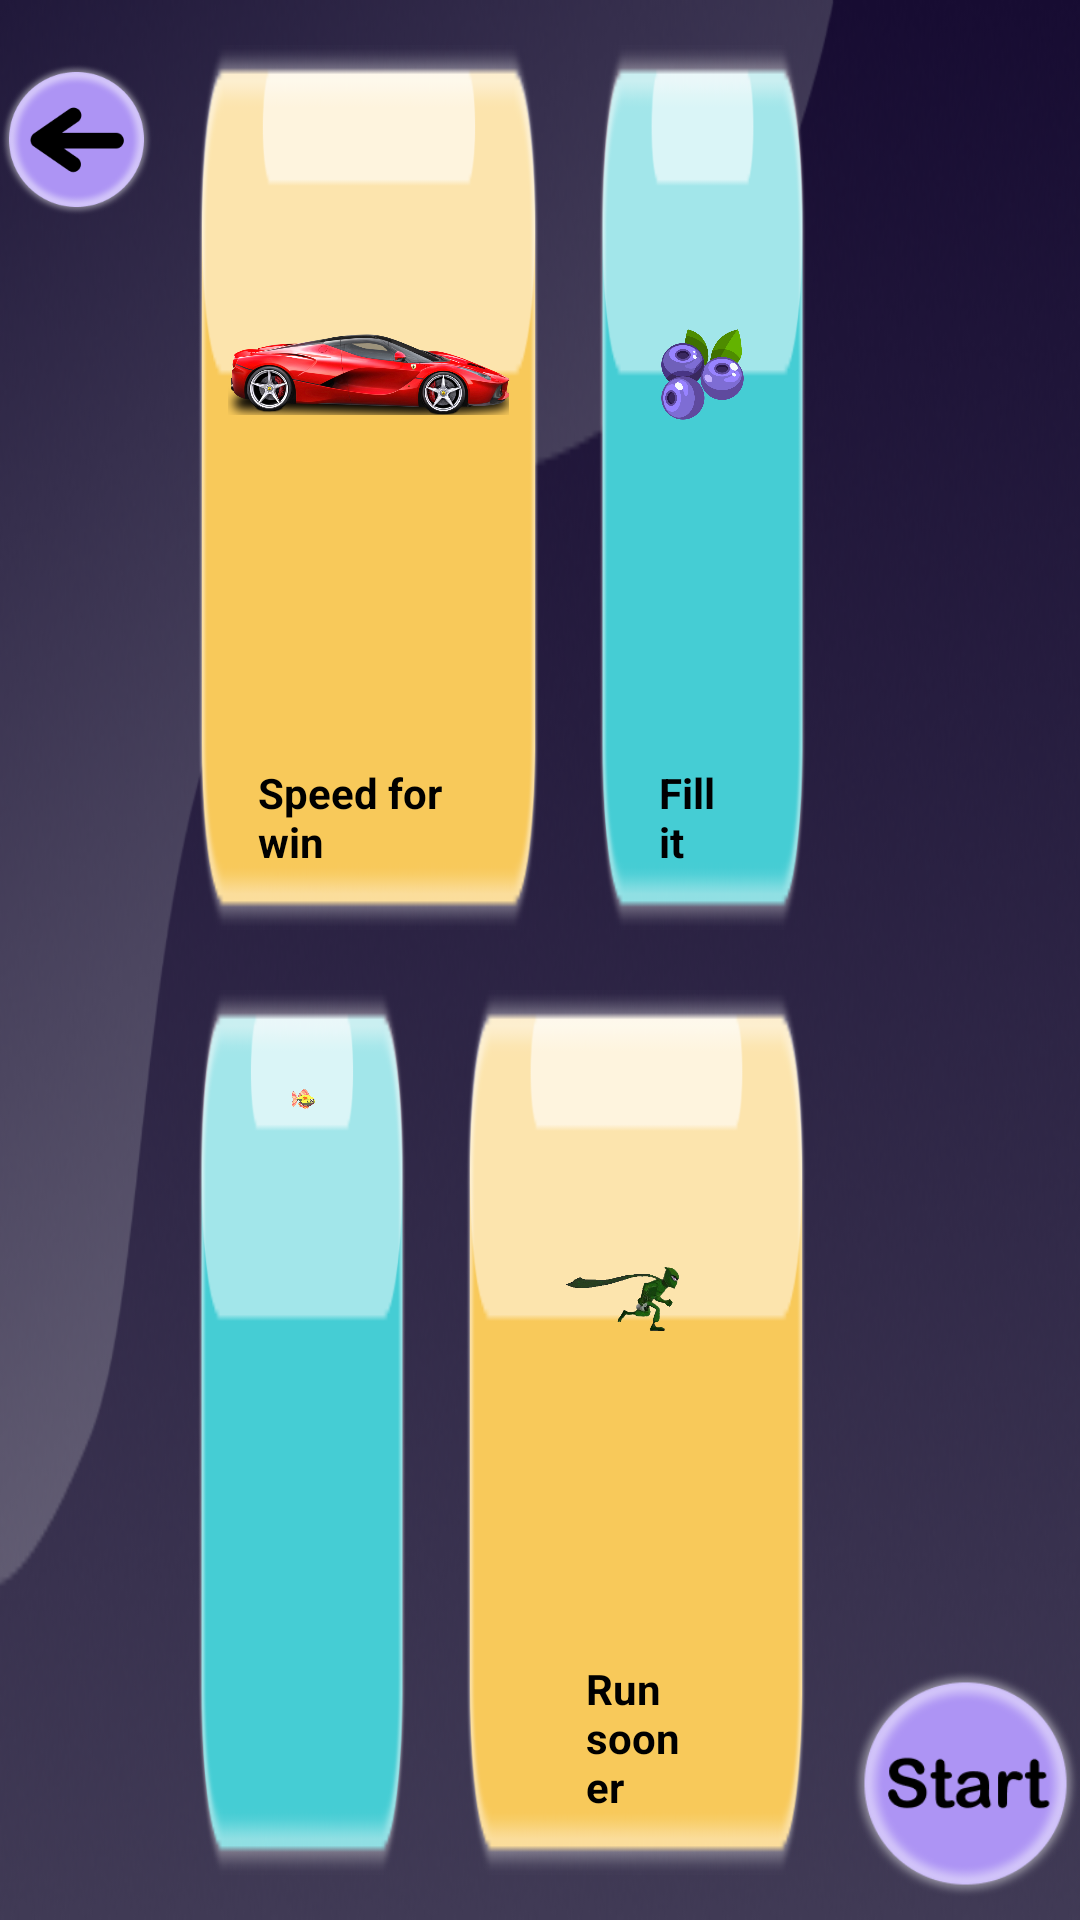

Screen size 1080w x 1920h. Icon name, then its box in pixels as {"left": x1, "top": y1, "right": x2, "bottom": y2}:
back: {"left": 5, "top": 68, "right": 149, "bottom": 212}
